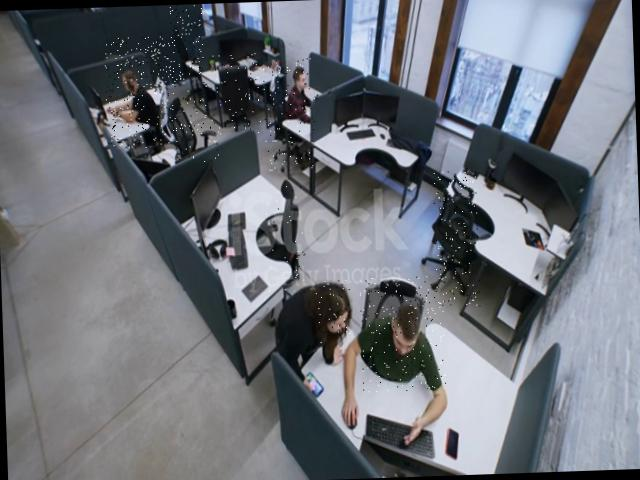empty chair: (432, 170, 480, 308), (262, 178, 308, 294), (212, 53, 262, 135), (170, 84, 220, 165), (170, 4, 205, 104)
occupiedchair: (359, 276, 447, 392), (104, 36, 178, 149), (262, 59, 316, 173)
